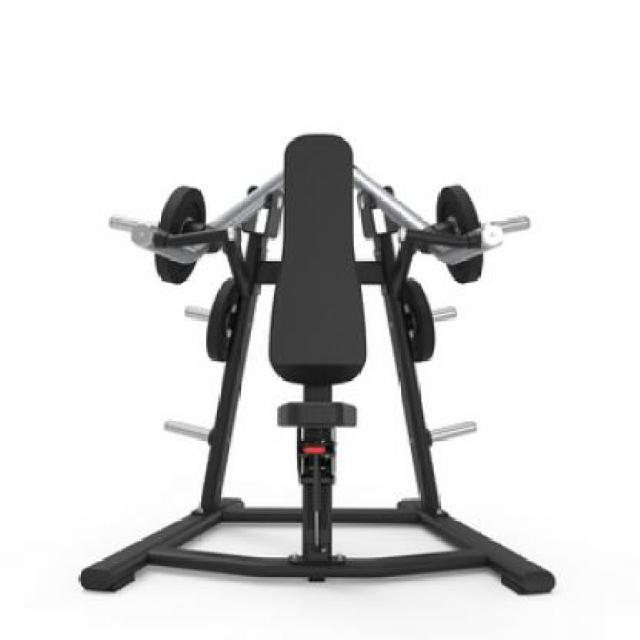shoulder press machine: (37, 100, 600, 615)
